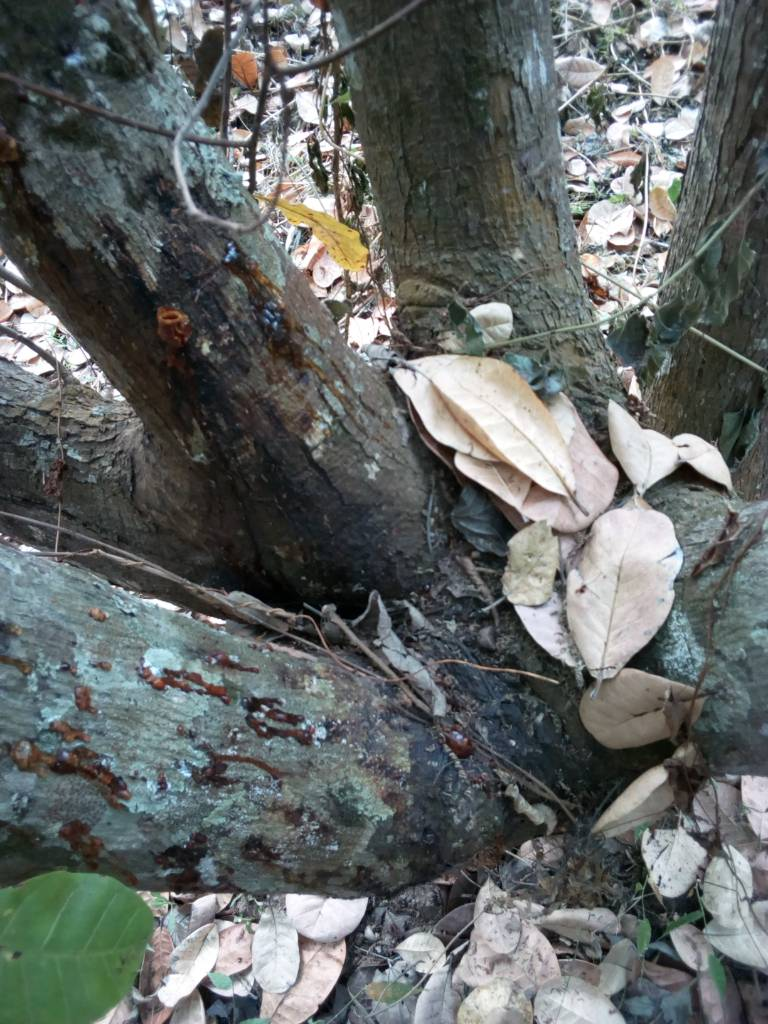Gommose: (100, 221, 374, 585), (377, 664, 558, 855)
